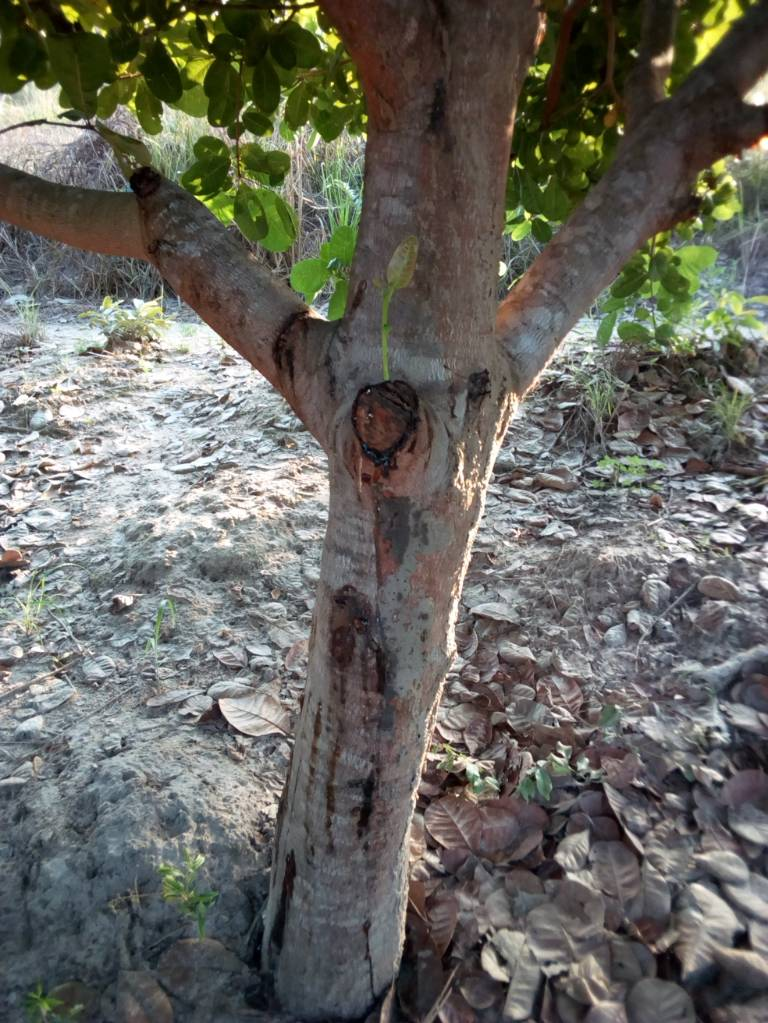Apate terebrans: (318, 358, 460, 513)
